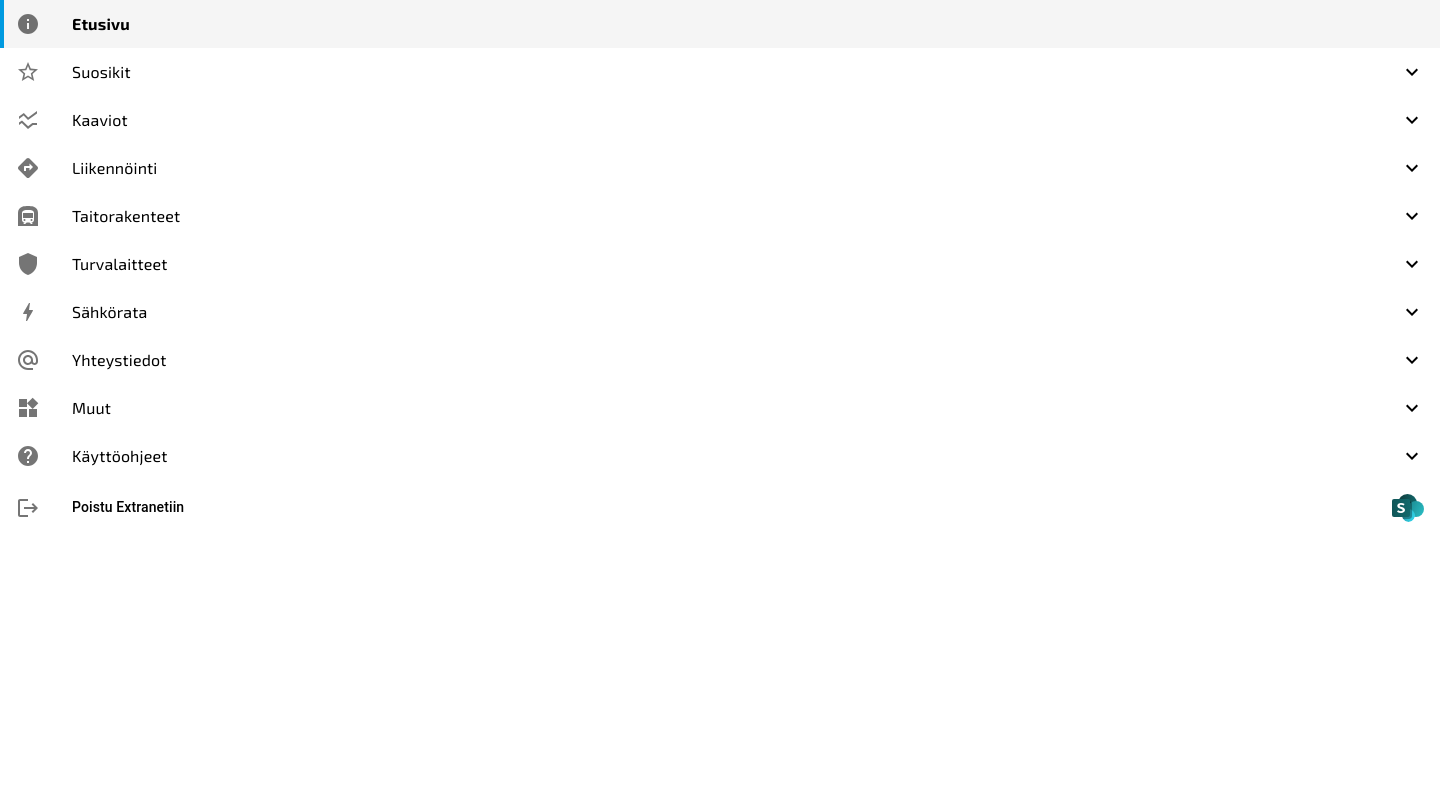
Scenario: MenuList, open a menu and check that new item is visible
Expected: the text "Linjakaaviot" is not shown
Click the button "Kaaviot". click: [100, 120]
box: x1=16 y1=108 x2=1424 y2=132
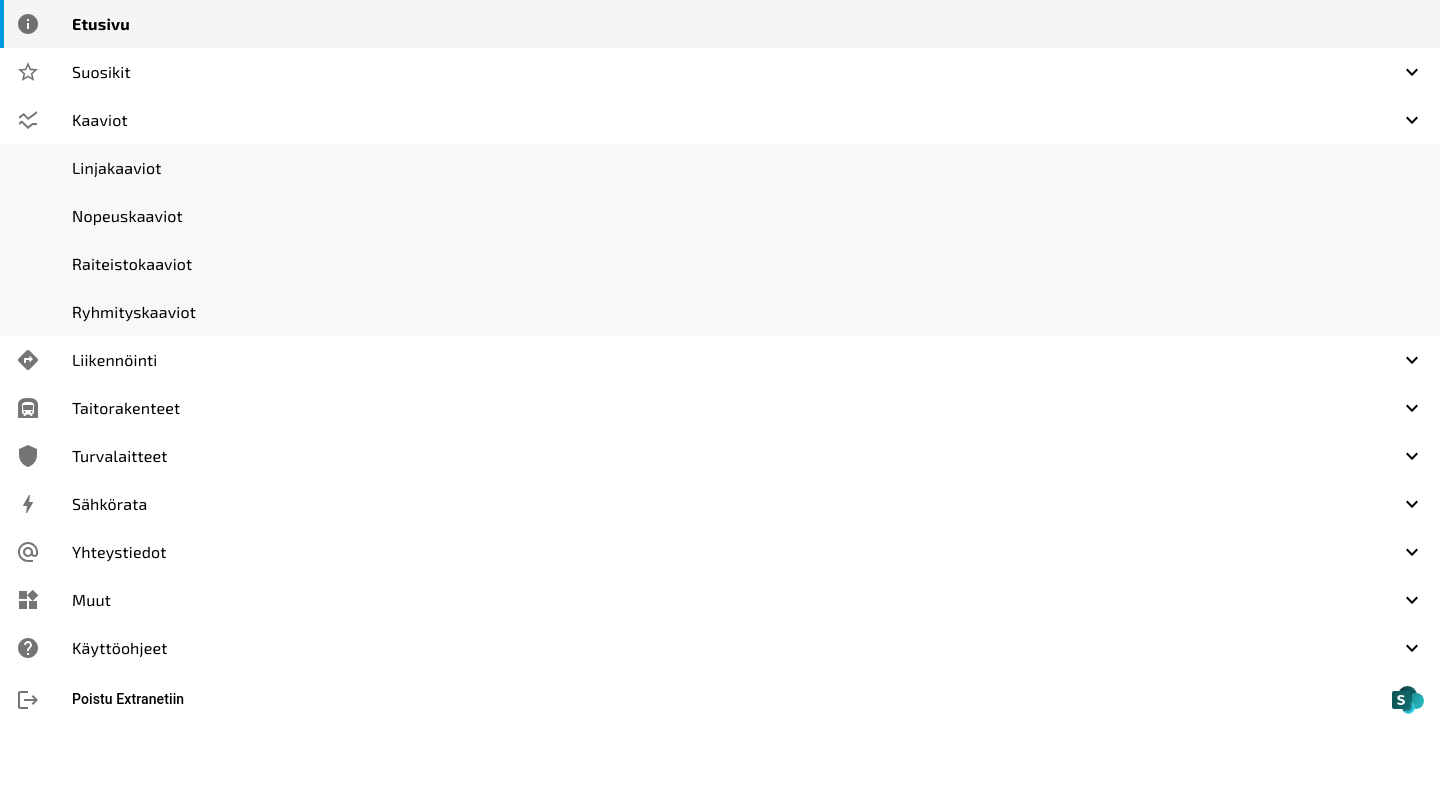
Expected: the text "Linjakaaviot" is shown, x1=72 y1=158 x2=161 y2=177
